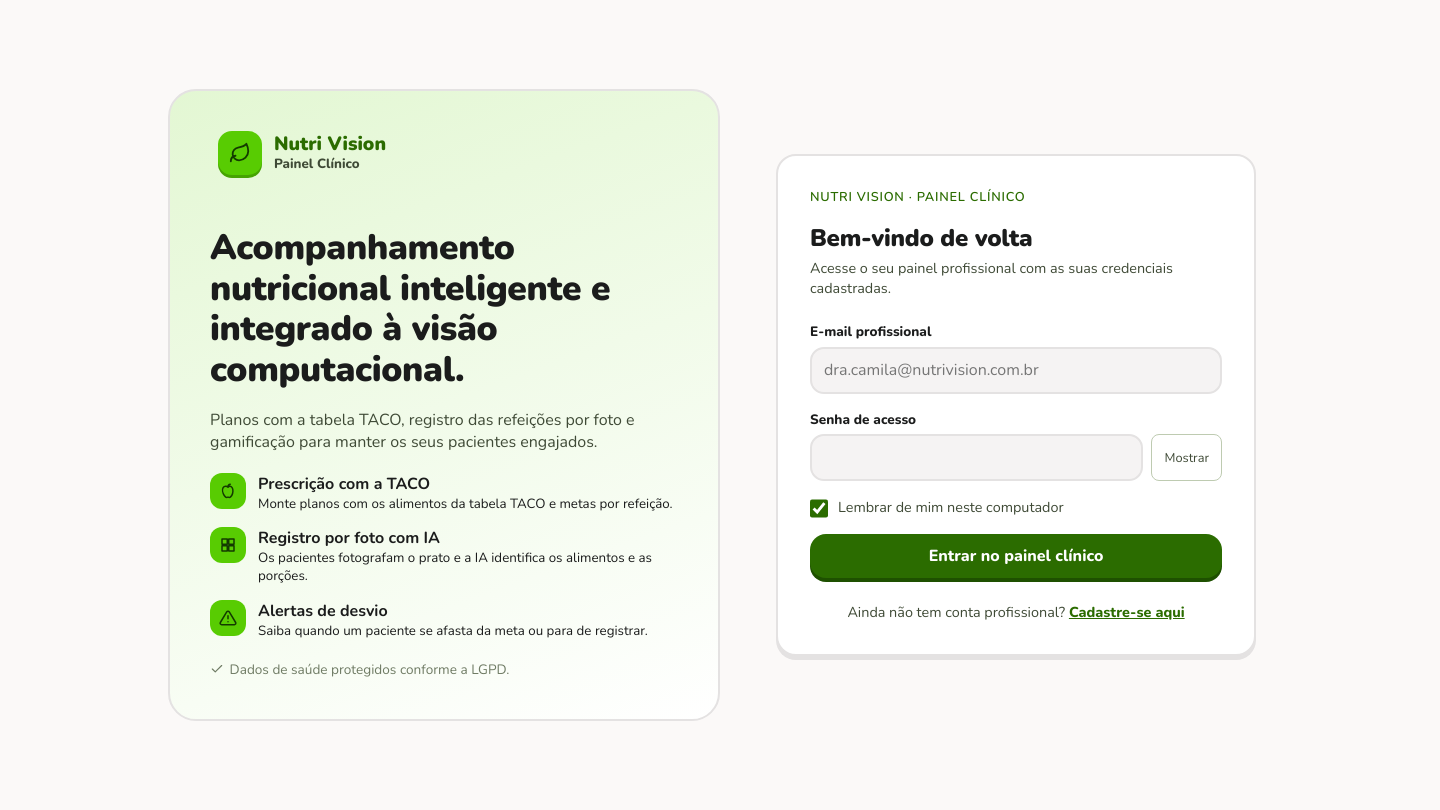
Test case: App › topo mostra o profissional logado e nada de depuracao
Type "ana@exemplo.com" into the field labelled "E-mail profissional". click: (1016,370)
box: [810, 347, 1222, 394]
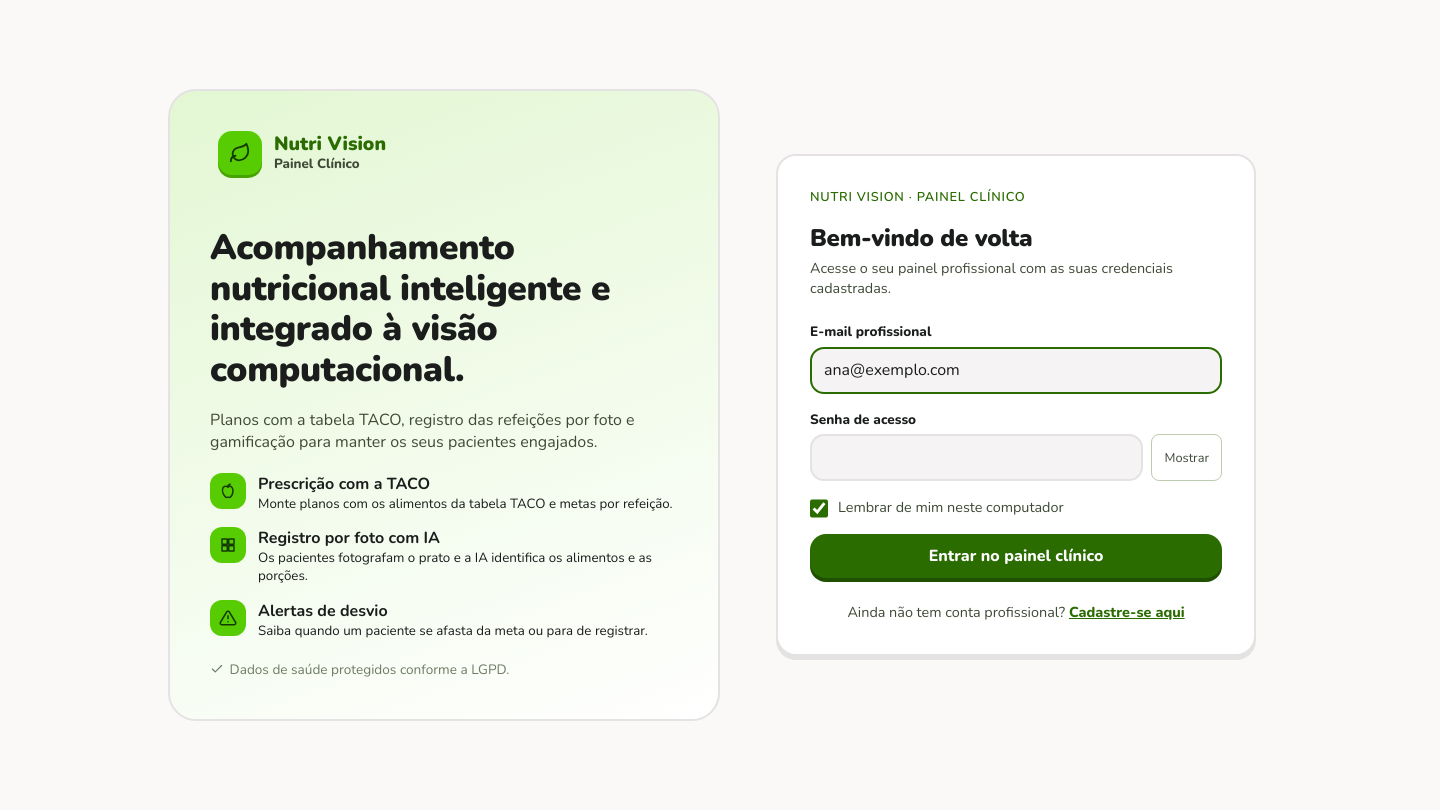
Type "senha-forte-123" into the password field labelled "Senha de acesso". click: (977,458)
box: [810, 434, 1144, 481]
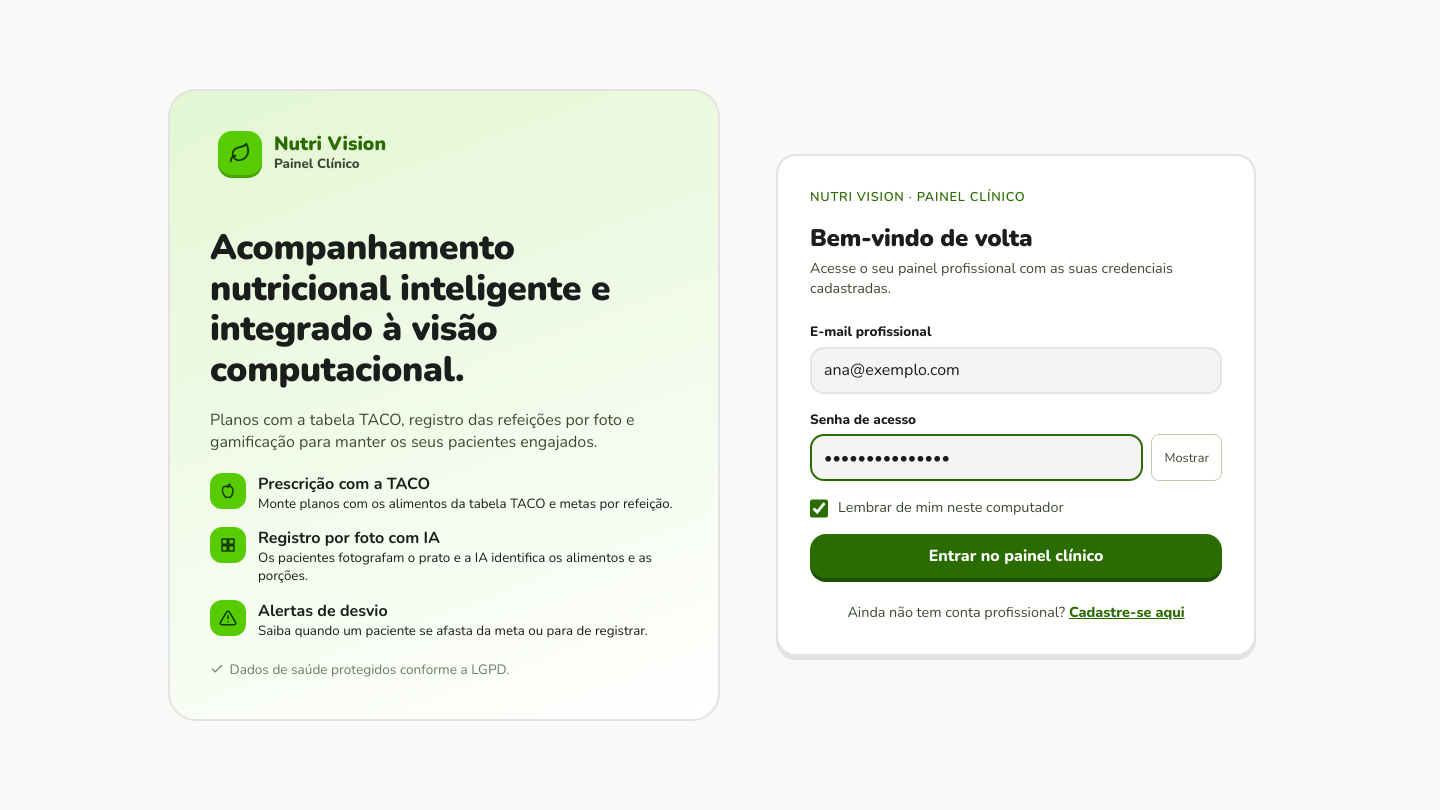
Click the button "Entrar no painel clínico". click: (1016,556)
box: [810, 534, 1222, 578]
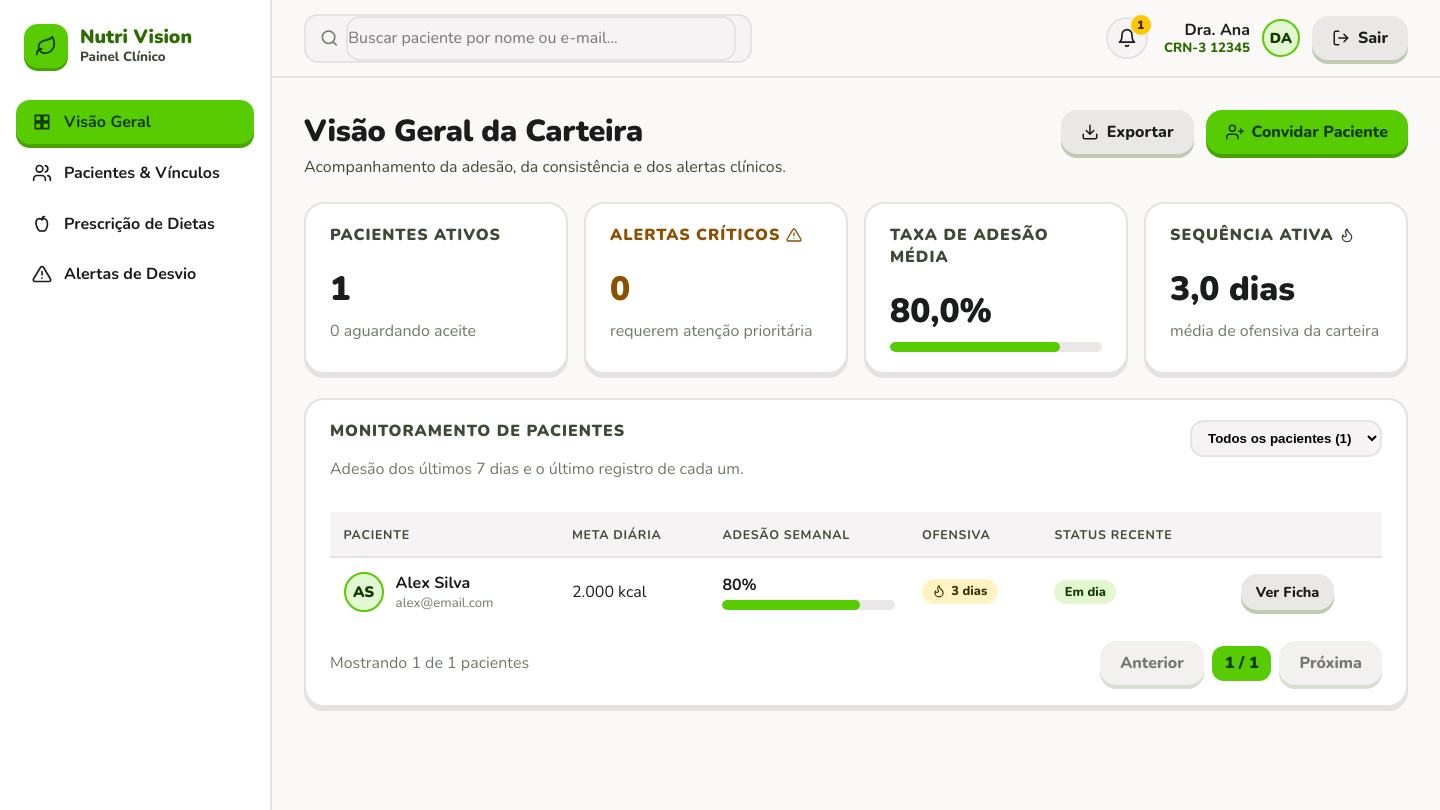
Expected: the text "Dra. Ana" is shown, [1184, 19, 1250, 41]
Expected: the text "CRN-3 12345" is shown, [1164, 40, 1250, 56]
